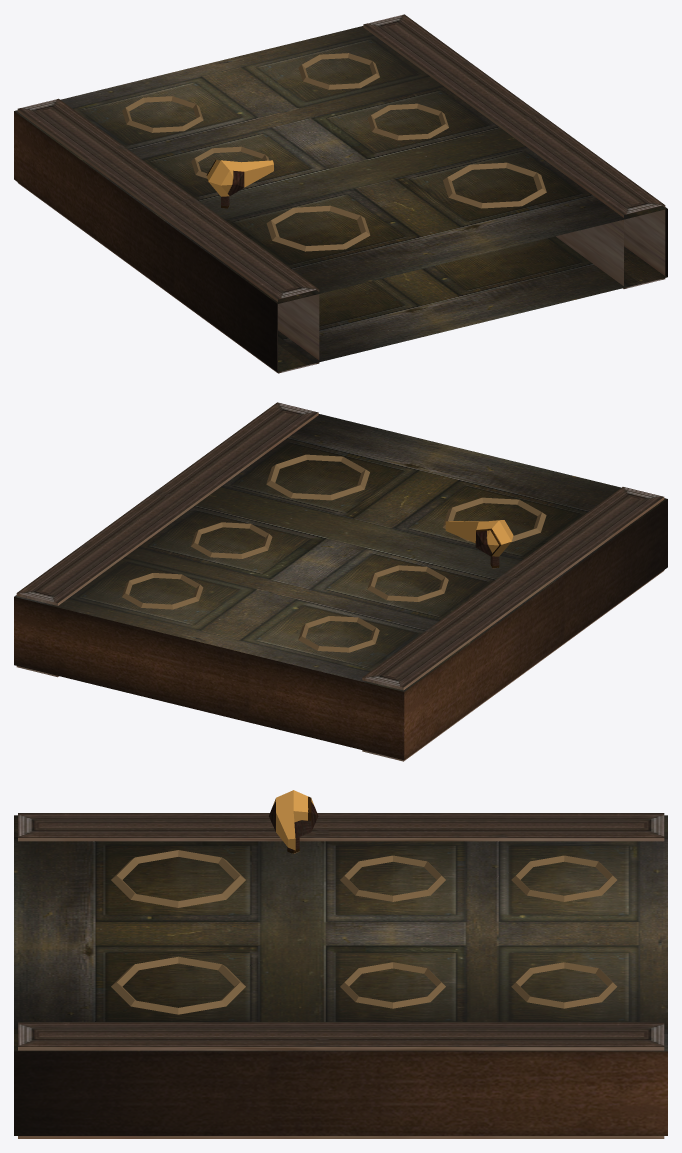
The model's file is Door.fbx.
The picture shows the model from 3 angles, top to bottom: view 1: azimuth 30°, elevation 25°; view 2: azimuth 150°, elevation 25°; view 3: azimuth 270°, elevation 25°; orthographic projection. The views are drawn at different scales.
Visible parts, largest first — view 1: Door; view 2: Door; view 3: Door.
Boxes of the visible parts, x1,y1,x2,y2 form: Door: [14, 14, 667, 373]; Door: [14, 402, 667, 761]; Door: [14, 790, 667, 1138].
Bounding box in the file's own units: 0.0299 × 0.0118 × 0.035.
